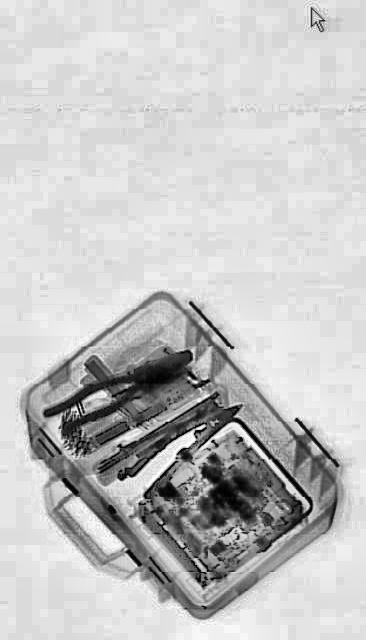Pliers: (42, 334, 194, 444)
